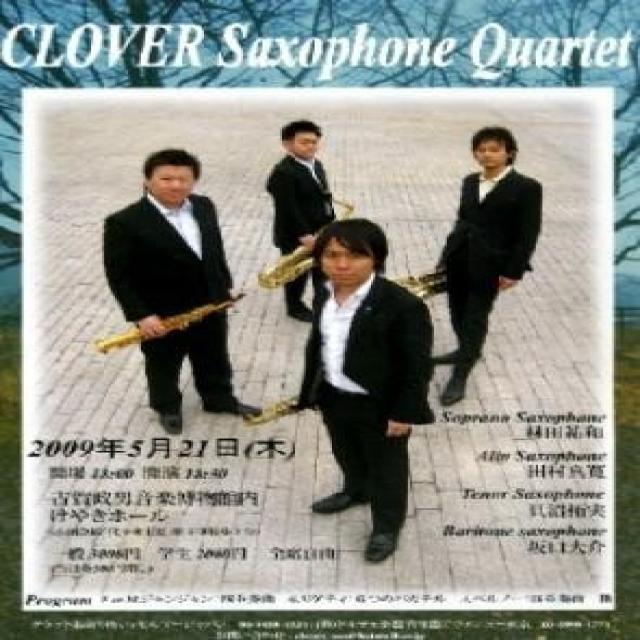saxophone: (255, 196, 358, 288)
